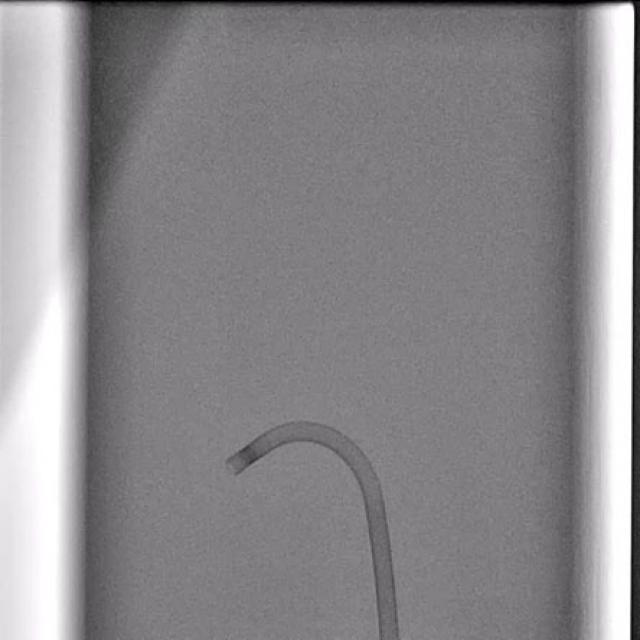bend: (362, 484, 383, 501)
entry: (380, 634, 400, 640)
marker: (238, 445, 260, 465)
tip: (225, 462, 239, 474)
